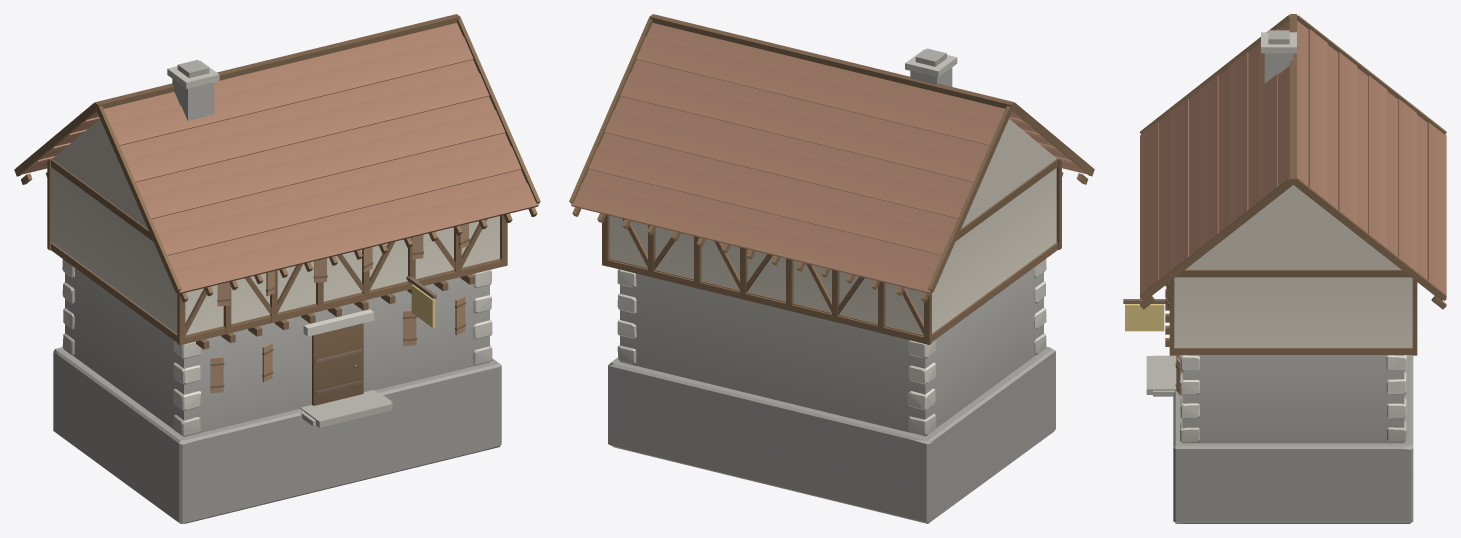
The model's file is haus_taverne.glb.
3 renders of one model, left to right at view 1: azimuth 30°, elevation 25°; view 2: azimuth 150°, elevation 25°; view 3: azimuth 270°, elevation 25°, orthographic. The views are drawn at different scales.
Parts seen in each view (by area): view 1: G_haus_taverne; view 2: G_haus_taverne; view 3: G_haus_taverne.
Part boxes in pixels (bbox=[...]): G_haus_taverne: bbox=[14, 14, 540, 523]; G_haus_taverne: bbox=[569, 14, 1094, 523]; G_haus_taverne: bbox=[1123, 14, 1446, 523].
Size of the model in its own units: 10.9 by 11.54 by 9.03.
